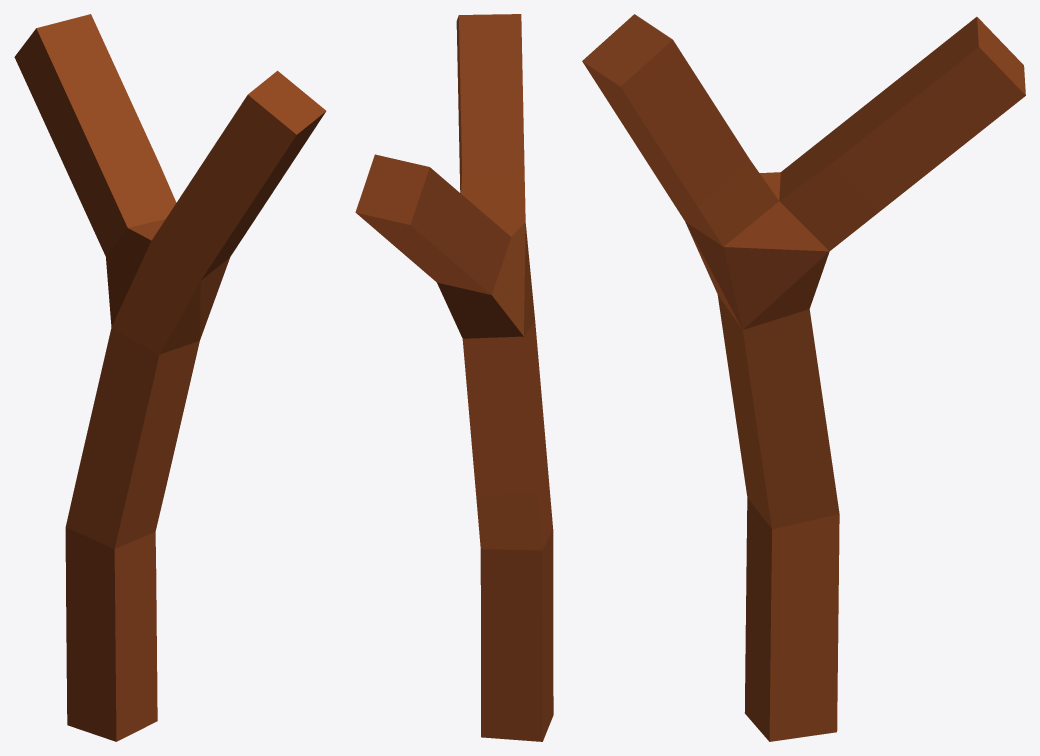
File: Log.fbx
3 renders of one model, left to right at view 1: azimuth 30°, elevation 25°; view 2: azimuth 150°, elevation 25°; view 3: azimuth 270°, elevation 25°, orthographic. The views are drawn at different scales.
Visible parts, largest first — view 1: Cube.002; view 2: Cube.002; view 3: Cube.002.
Part boxes in pixels (x1,y1,x2,y2): Cube.002: (14, 14, 326, 741); Cube.002: (355, 14, 553, 741); Cube.002: (582, 14, 1025, 741).
Bounding box in the file's own units: 157 × 571 × 308.
